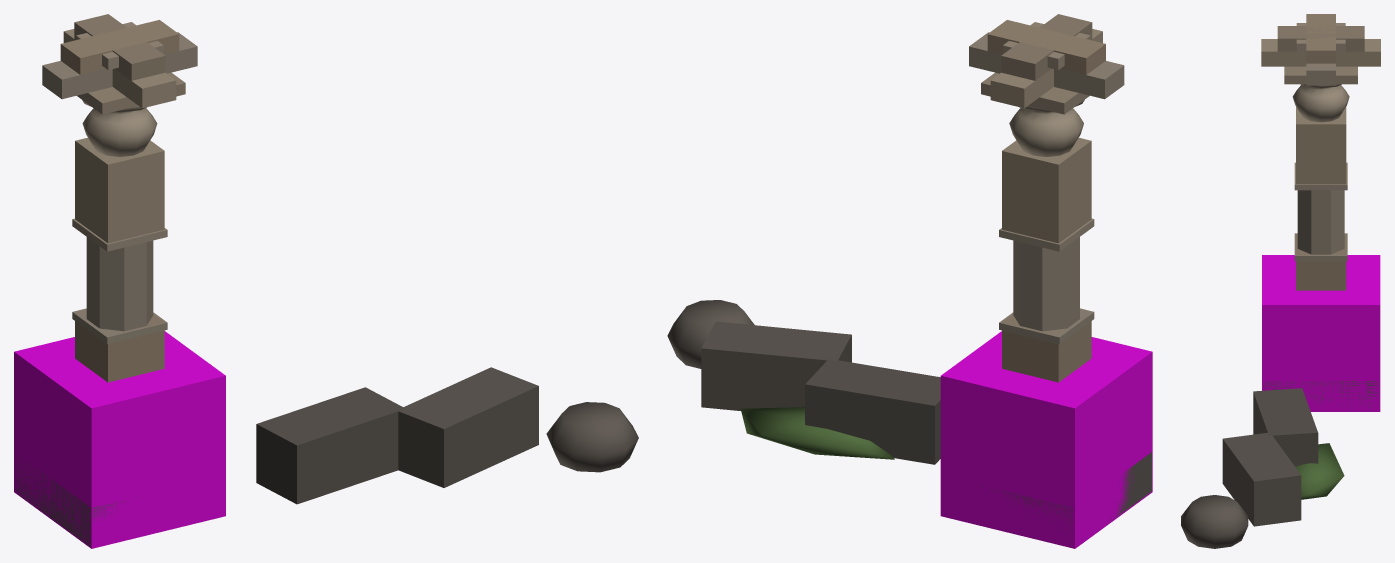
File: ENV_Pillar_Ruin_A.glb
3 views of the same model, side by side, from view 1: azimuth 30°, elevation 25°; view 2: azimuth 150°, elevation 25°; view 3: azimuth 270°, elevation 25° (orthographic). The views are drawn at different scales.
Visible parts, largest first — view 1: COL_Base, STATE_standing, STATE_fallen, ENV_Pillar_Ruin_A_Base; view 2: COL_Base, STATE_standing, STATE_fallen, ENV_Pillar_Ruin_A_Base; view 3: STATE_standing, COL_Base, STATE_fallen, ENV_Pillar_Ruin_A_Base.
Part boxes in pixels (x1,y1,x2,y2): COL_Base: (14,331,225,548); STATE_standing: (42,14,197,382); STATE_fallen: (256,367,638,504); ENV_Pillar_Ruin_A_Base: (15,457,137,546); COL_Base: (940,331,1152,548); STATE_standing: (969,14,1124,382); STATE_fallen: (667,300,940,464); ENV_Pillar_Ruin_A_Base: (980,452,1151,531); STATE_standing: (1261,14,1380,290); COL_Base: (1262,255,1380,411); STATE_fallen: (1181,388,1344,548); ENV_Pillar_Ruin_A_Base: (1263,381,1378,410).
Bounding box in the file's own units: 3.81 × 3.36 × 1.69.
